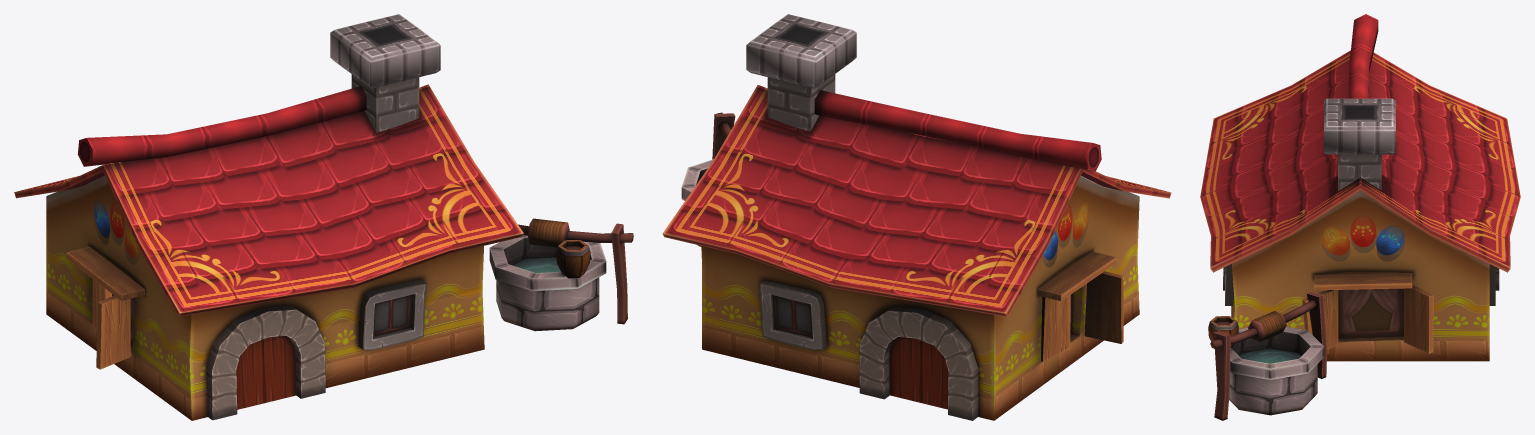
The model's file is House_01.FBX.
3 views of the same model, side by side, from view 1: azimuth 30°, elevation 25°; view 2: azimuth 150°, elevation 25°; view 3: azimuth 270°, elevation 25° (orthographic). The views are drawn at different scales.
Parts seen in each view (by area): view 1: House_01; view 2: House_01; view 3: House_01.
Boxes of the visible parts, x1=… form: House_01: x1=14, y1=14, x2=633, y2=420; House_01: x1=662, y1=14, x2=1171, y2=420; House_01: x1=1200, y1=14, x2=1520, y2=420.
Size of the model in its own units: 284 by 154 by 189.
